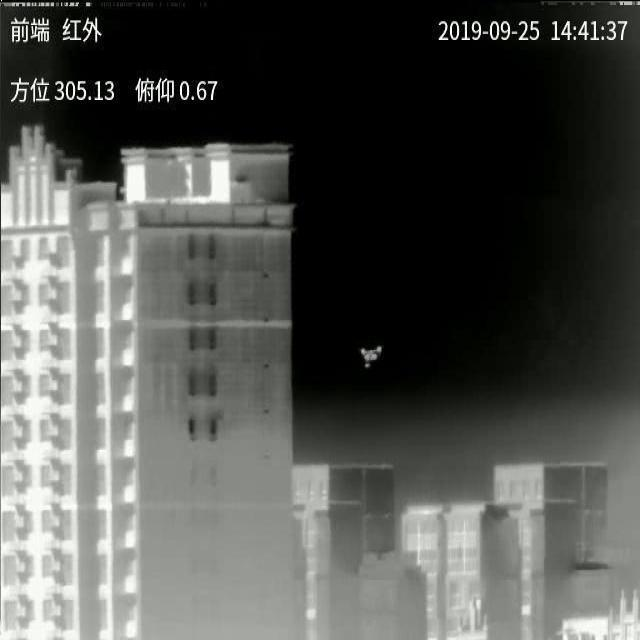drone: (360, 346, 382, 368)
